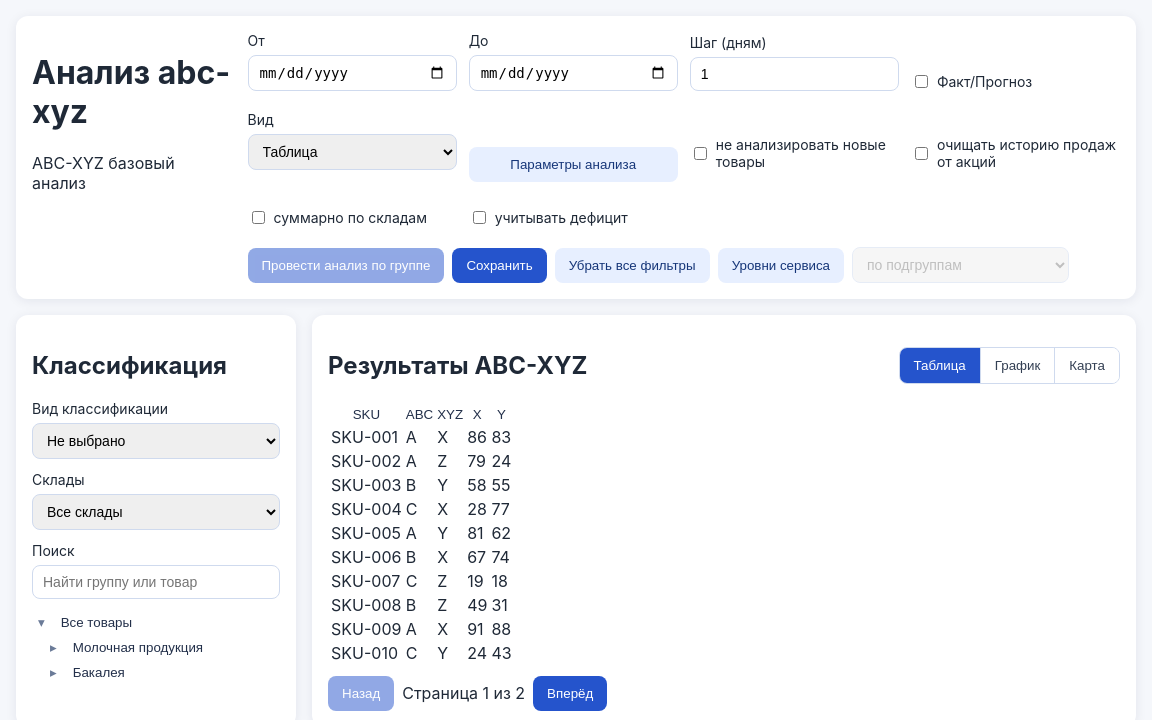
Test: AnalysisPage smoke › shows api error messages with readable text
Click the button "Уровни сервиса" at (781, 266), box x1=718 y1=248 x2=844 y2=283
(page scrolled)
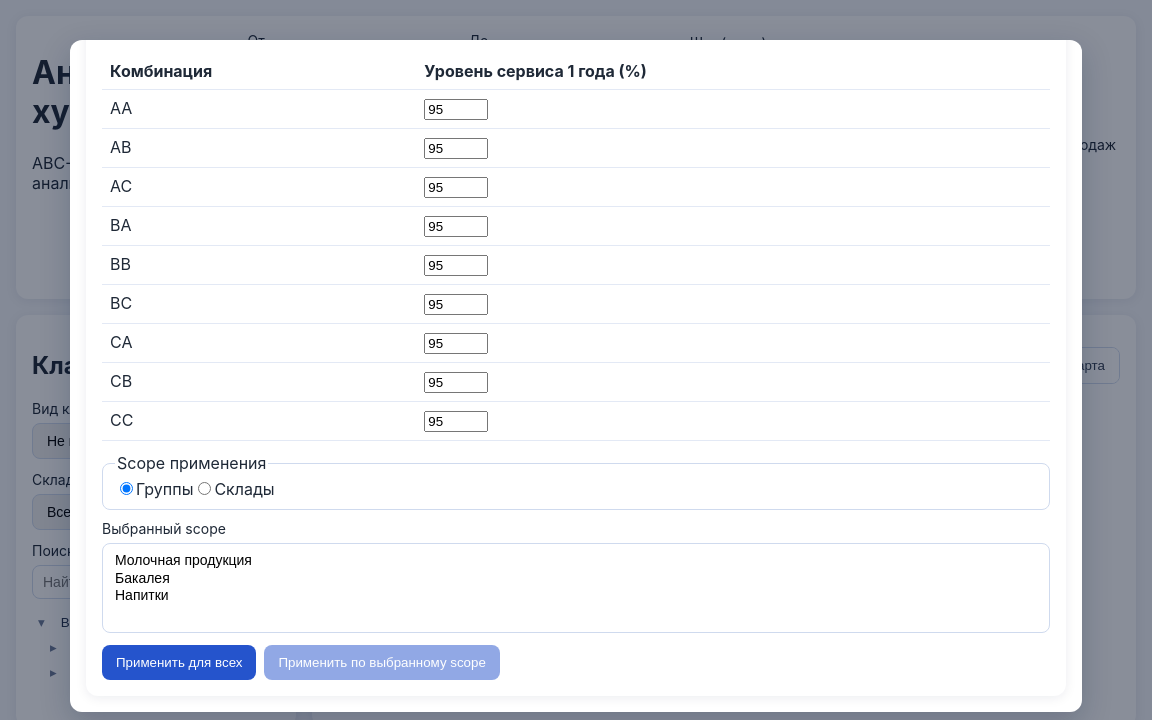
Click the button "Применить для всех" at (179, 662), box x1=102 y1=645 x2=256 y2=680
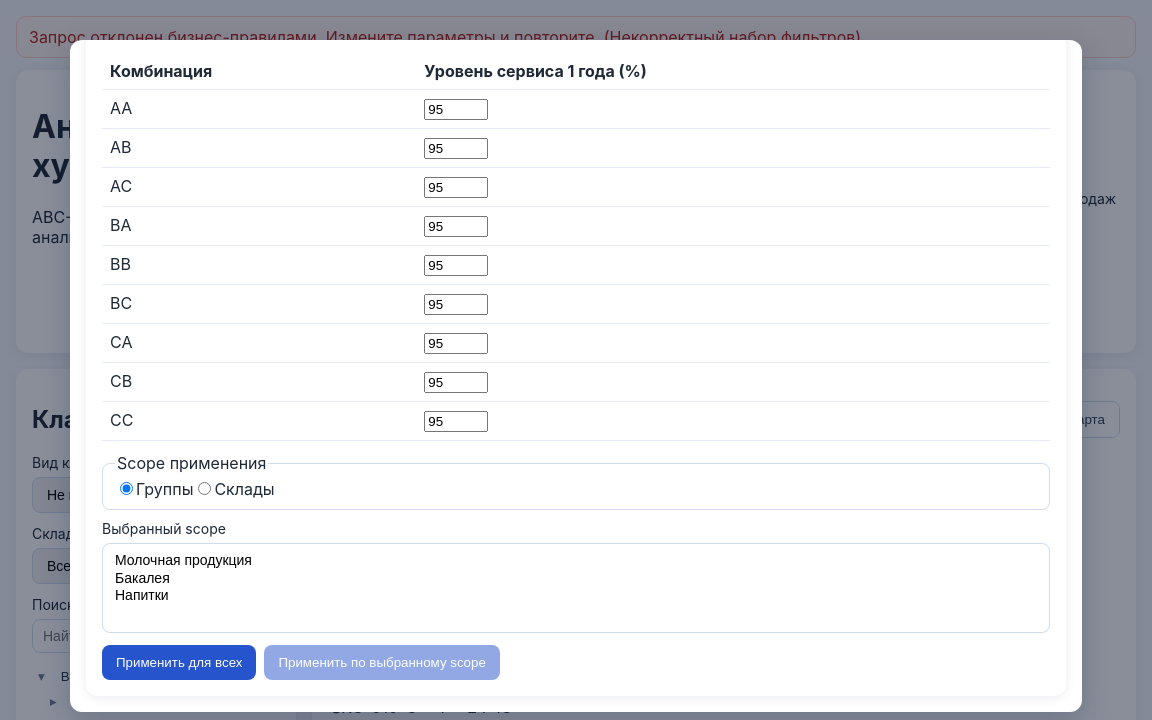
Expected: the text "Запрос отклонен бизнес-правилами. Измените параметры и повторите. (Некорректный набор фильтров)" is shown, x1=29 y1=27 x2=861 y2=47
